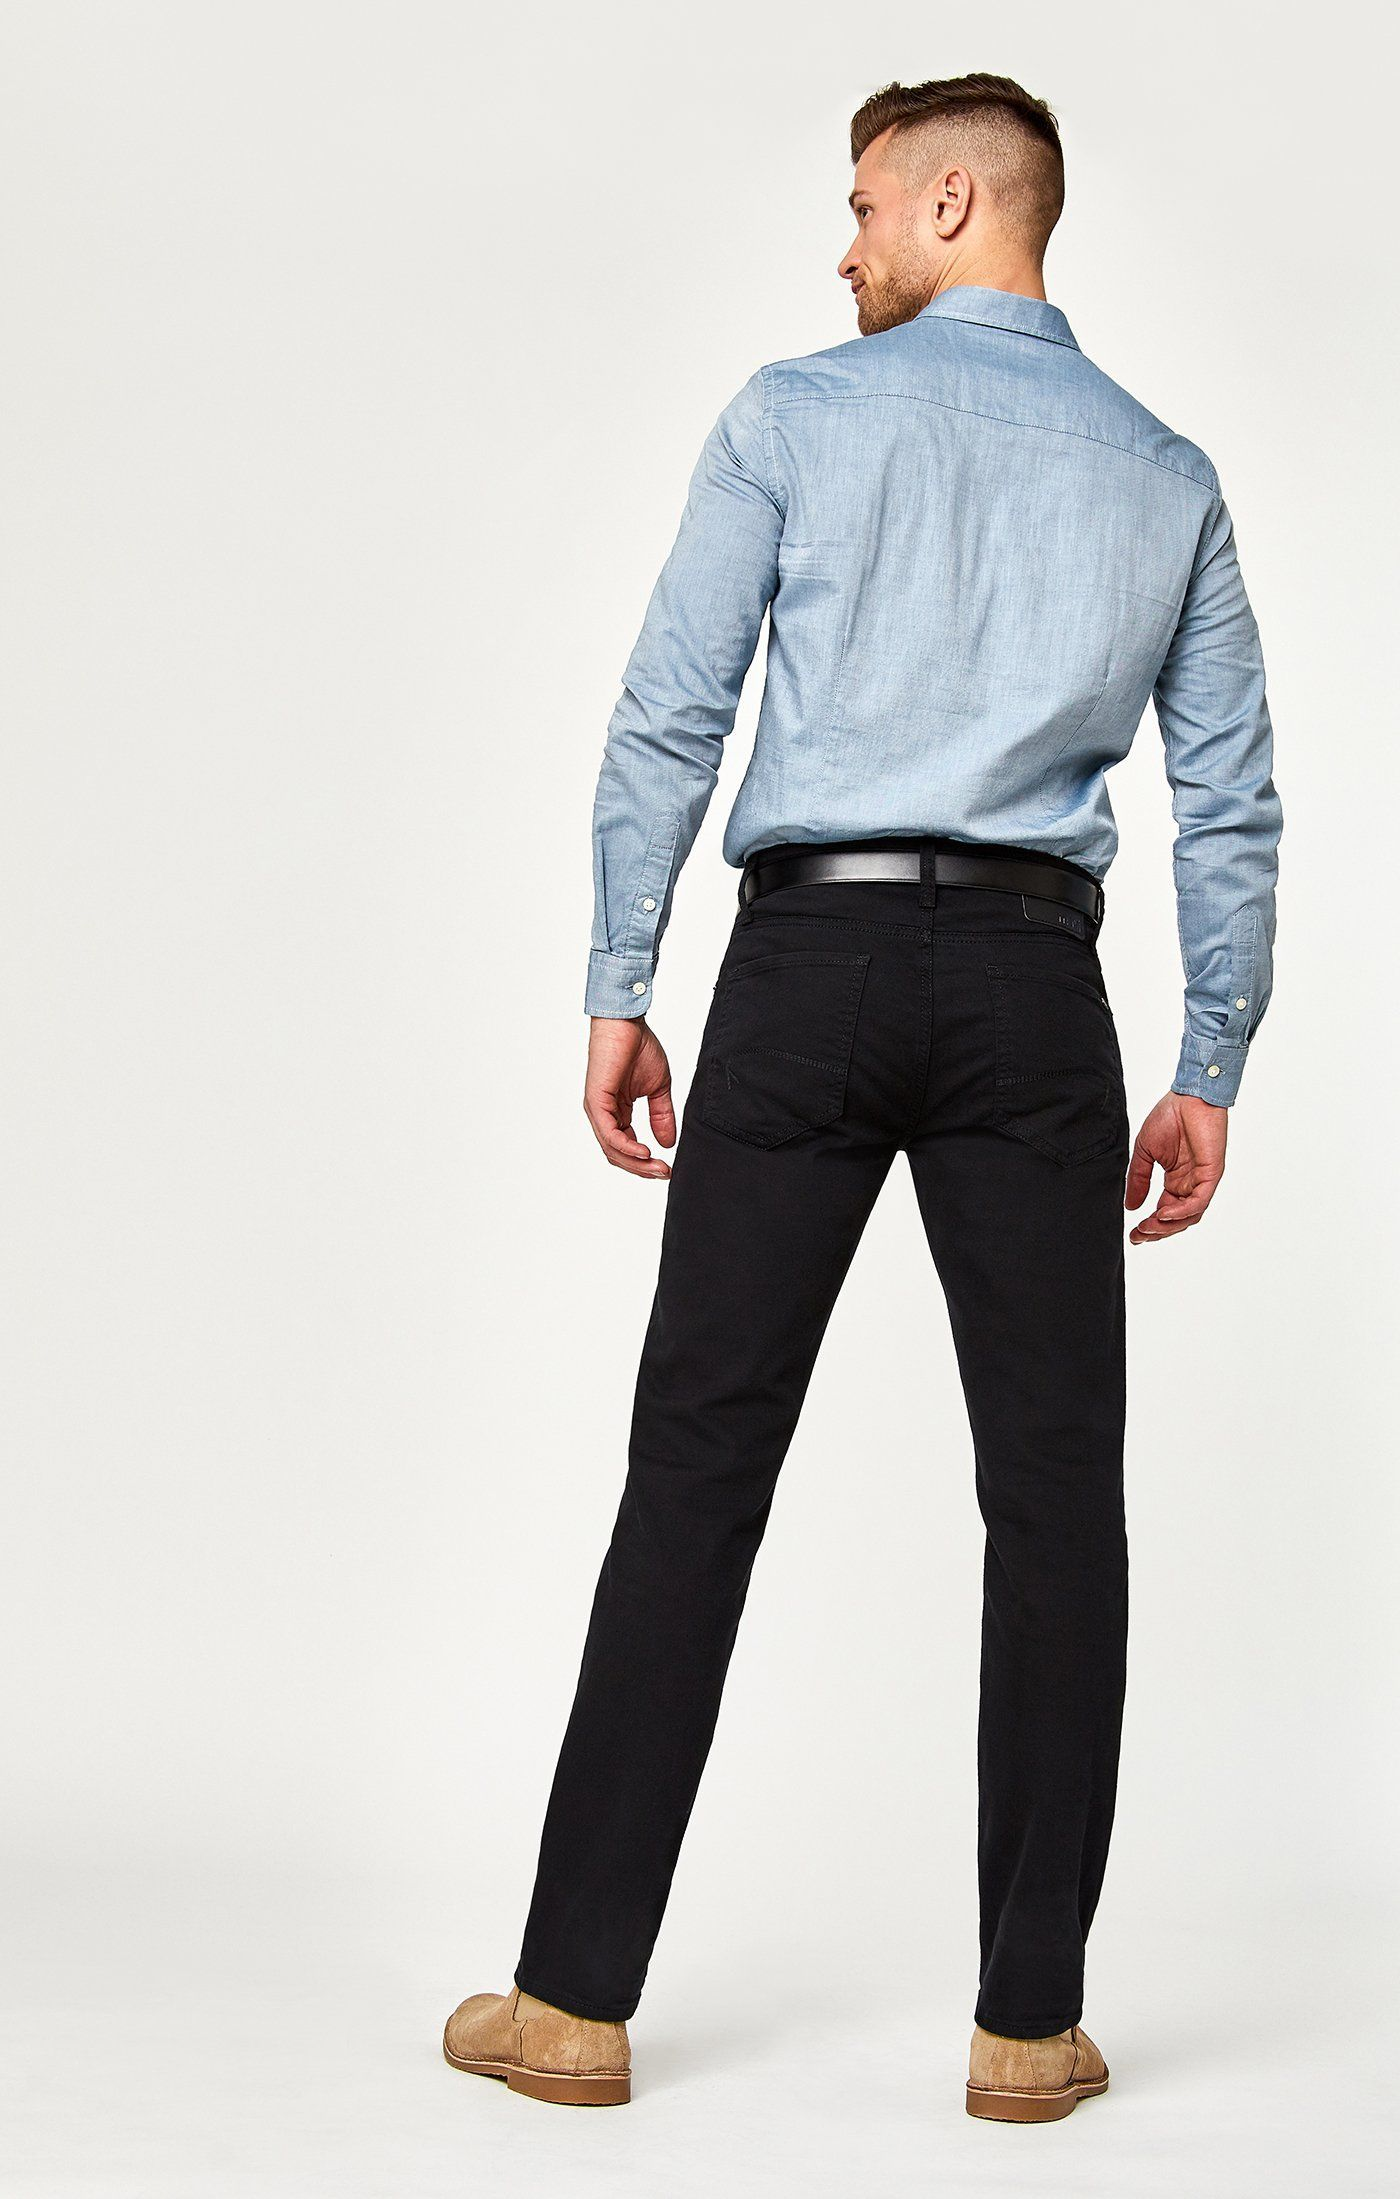Jeans: (523, 833, 1139, 2044)
